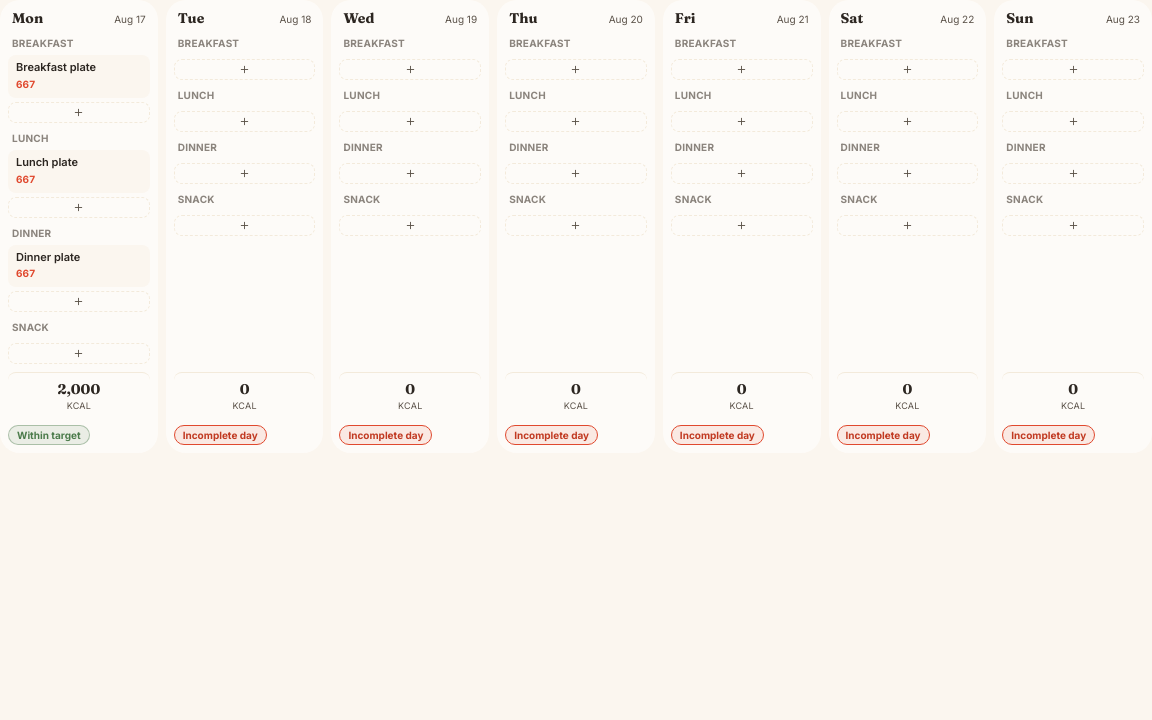
Test case: the day summary behind a grid cell › agrees with the week about what a complete day is
What coordinates should you click on to do the following:
click the button with aria-label "view summary for monday"
I would click on:
 (79, 409)
Its box is [8,372,150,445].
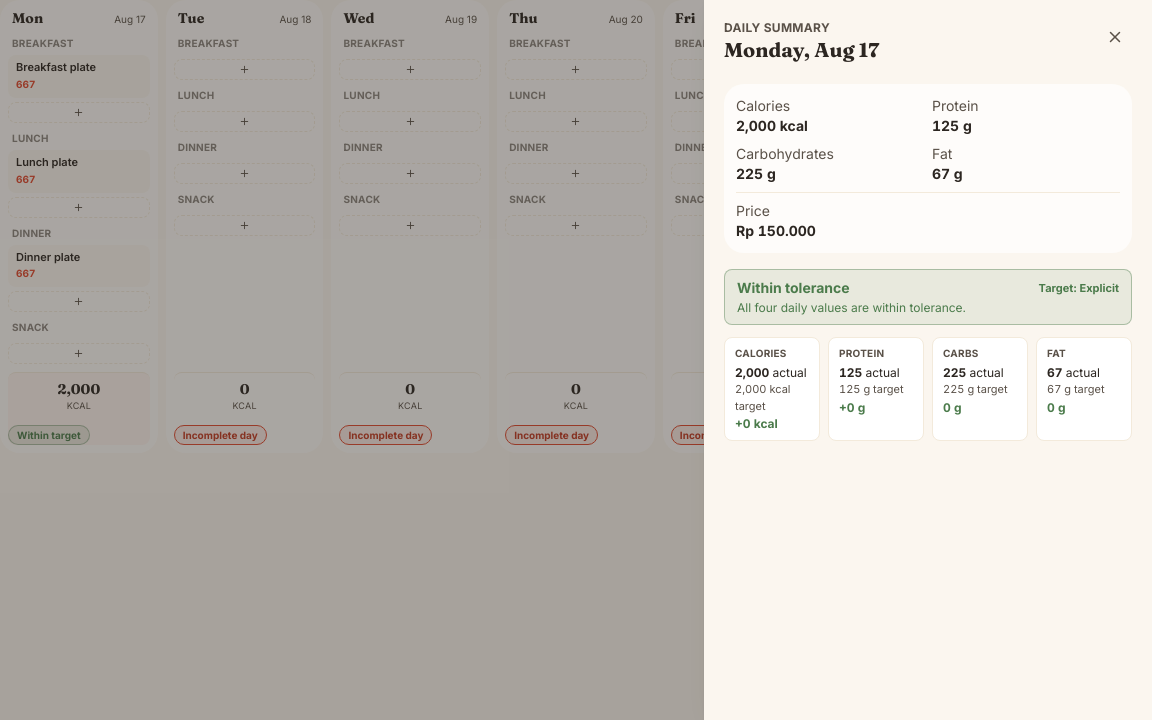
Expected: the text "Within target" is shown, [8,425,90,445]
Expected: the text "Within tolerance" is shown, [737,278,850,298]
